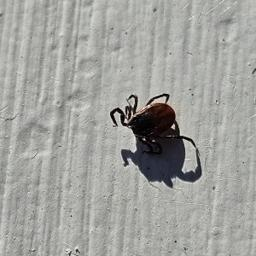Ixodes scapularis: (109, 93, 197, 156)
